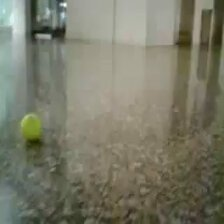tennis: (21, 113, 41, 138)
